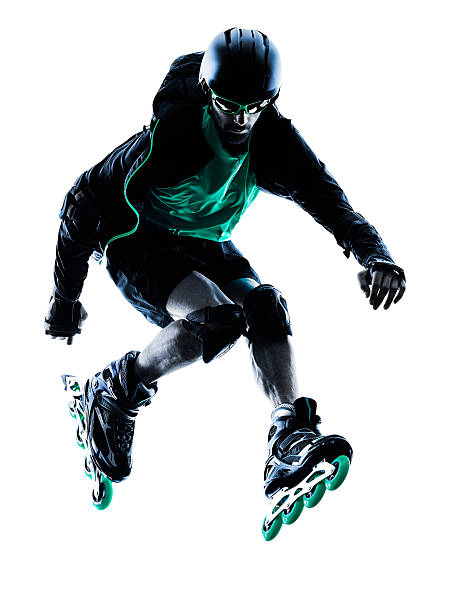roller_blade: (60, 353, 156, 511), (264, 415, 354, 537)
